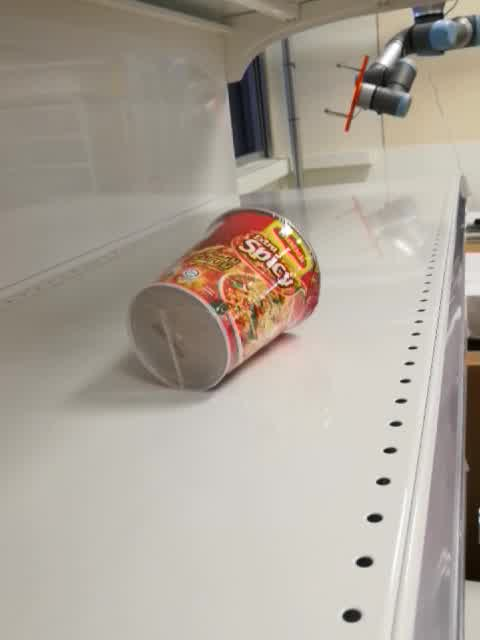maggi: (123, 208, 321, 395)
